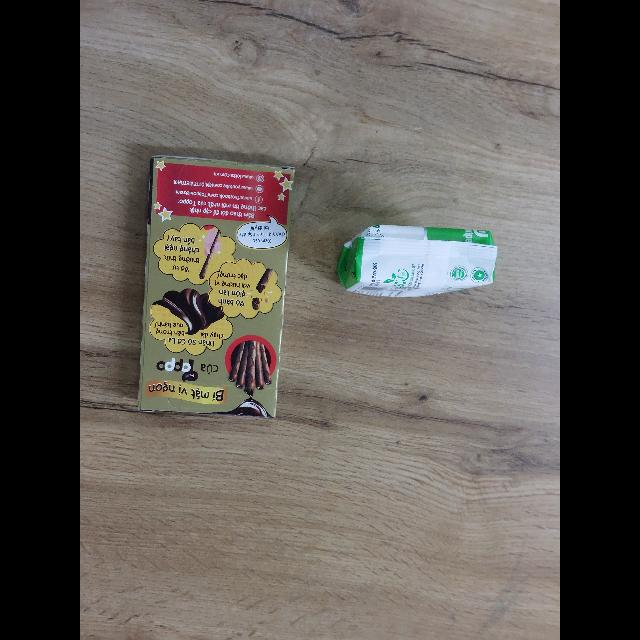banh_toppo_socola: (136, 152, 295, 418)
khan_giay: (336, 222, 498, 297)
